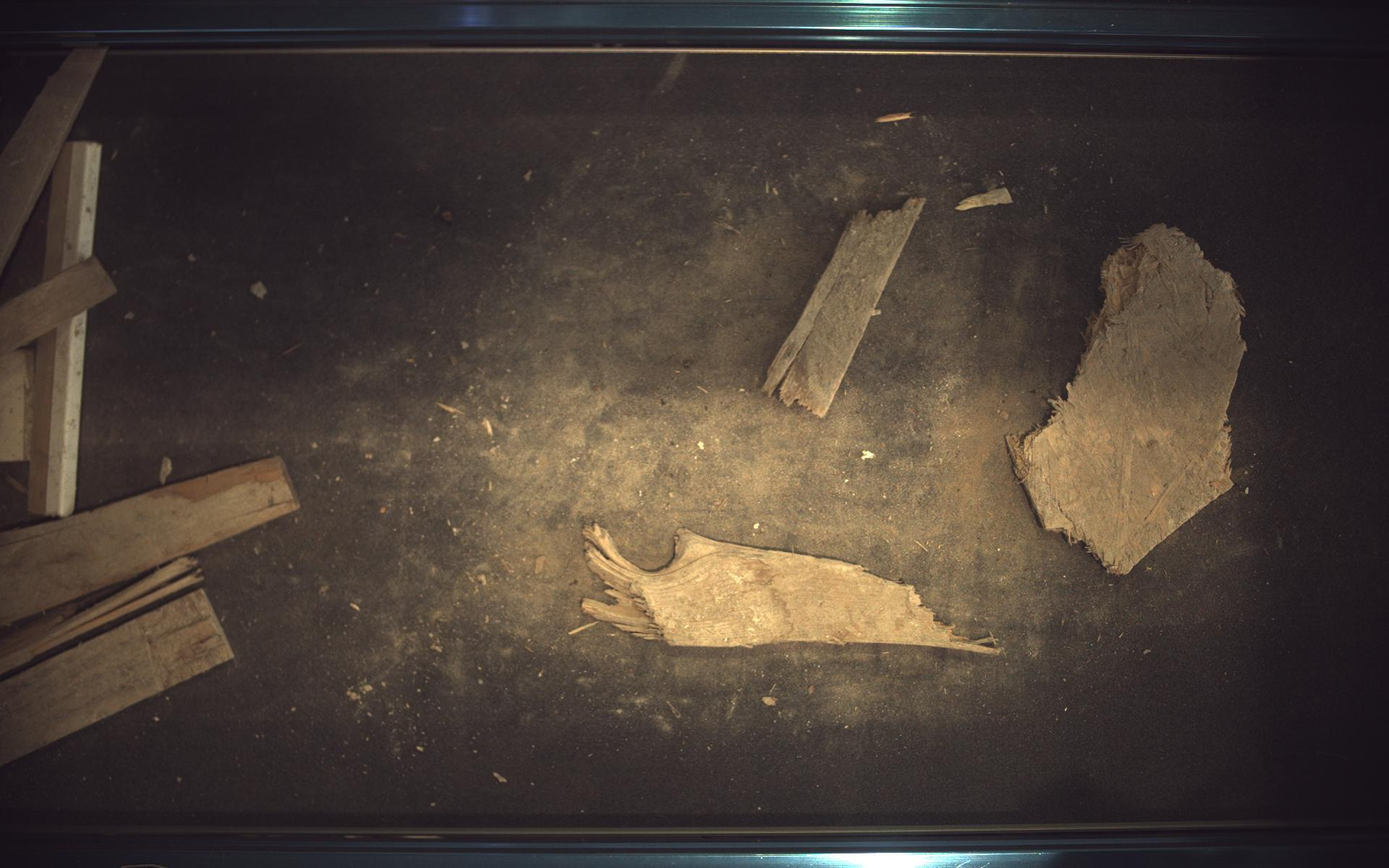wood: (1008, 224, 1249, 575), (582, 524, 1001, 655), (1, 457, 299, 627), (1, 590, 232, 767), (763, 197, 927, 417), (1, 558, 203, 678), (1, 47, 105, 272), (27, 311, 86, 517), (1, 256, 115, 355), (43, 141, 100, 279), (1, 347, 33, 462)
